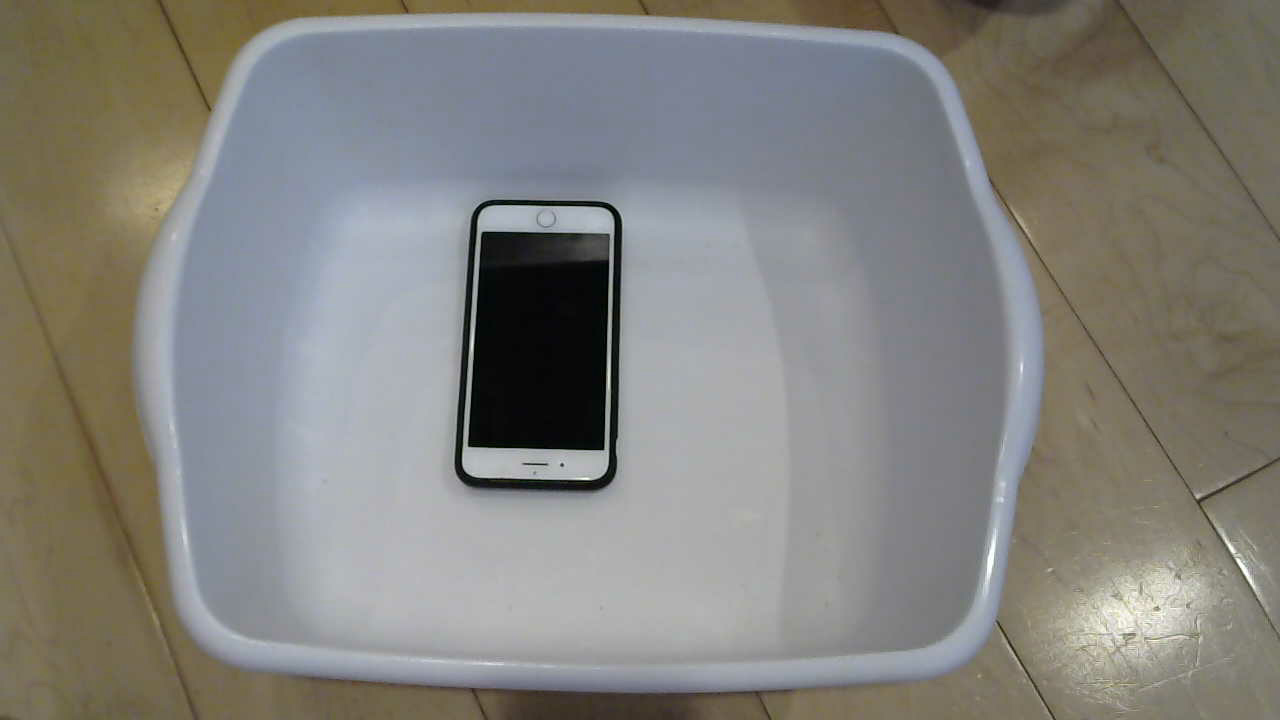phone: (438, 178, 645, 511)
